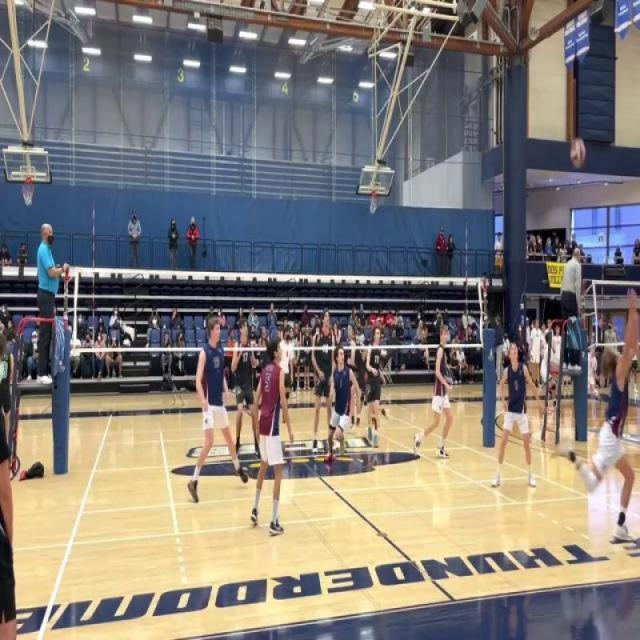volleyball: (569, 136, 587, 170), (598, 232, 604, 244)
